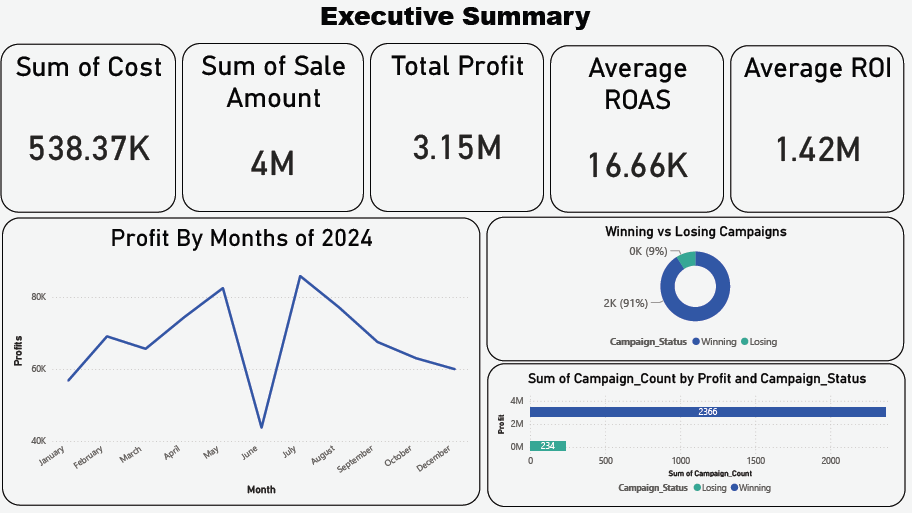

Layout of this report page (visuals, bound fields, positions):
{"tool":"powerbi","page":{"name":"Page 1 - Executive Overview","canvas":[1280,720],"ordinal":0},"visuals":[{"type":"card","title":"Sum of Cost","fields":{"Values":["Sum(campaign_status.Cost)"]},"box":[5.4,64.4,244.9,236],"z":0},{"type":"card","title":"Sum of Sale Amount","fields":{"Values":["Sum(campaign_status.Sale_Amount)"]},"box":[259.2,62.6,253.9,236],"z":1000},{"type":"card","title":"Total Profit","fields":{"Values":["Sum(campaign_status.Profit)"]},"box":[522,62.6,243.1,236],"z":2000},{"type":"card","title":"Average ROAS","fields":{"Values":["Sum(marketing_data_FINAL.ROAS)"]},"box":[774.1,66.1,243.1,234.2],"z":3000},{"type":"card","title":"Average ROI","fields":{"Values":["Sum(marketing_data_FINAL.ROI)"]},"box":[1026.1,66.1,243.1,234.2],"z":4000},{"type":"lineChart","title":"Profit By Months of 2024","fields":{"Category":["daily_performance.Ad_Date.Variation.Date Hierarchy.Month","daily_performance.Ad_Date.Variation.Date Hierarchy.Day"],"Y":["daily_performance.Profit (No Sum)"]},"box":[7.2,307.5,668.6,402.2],"z":5000},{"type":"donutChart","title":"Winning vs Losing Campaigns","fields":{"Category":["campaign_status.Campaign_Status"],"Y":["Sum(campaign_status.Campaign_Count)"]},"box":[684.7,305.7,584.6,202],"z":6000},{"type":"barChart","fields":{"Category":["campaign_status.Profit"],"Series":["campaign_status.Campaign_Status"],"Y":["Sum(campaign_status.Campaign_Count)"]},"box":[686.5,511.3,584.6,200.2],"z":7000},{"type":"textbox","title":"Executive Summary","box":[7.2,0,1267.5,59],"z":8000}]}

Visuals, with their boxes in screenshot pixels (x1, y1, x2, y2), scaled from the page's 1280x720 canvas onto the 913x516 screenshot:
"Sum of Cost" card: bbox(4, 46, 179, 215)
"Sum of Sale Amount" card: bbox(185, 45, 366, 214)
"Total Profit" card: bbox(372, 45, 546, 214)
"Average ROAS" card: bbox(552, 47, 726, 215)
"Average ROI" card: bbox(732, 47, 905, 215)
"Profit By Months of 2024" lineChart: bbox(5, 220, 482, 509)
"Winning vs Losing Campaigns" donutChart: bbox(488, 219, 905, 364)
barChart - campaign_status.Profit x campaign_status.Campaign_Status: bbox(490, 366, 907, 510)
"Executive Summary" textbox: bbox(5, 0, 909, 42)
